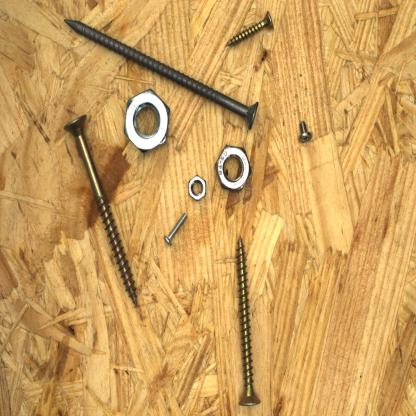screw: (62, 15, 261, 132), (61, 112, 139, 309), (233, 233, 264, 407), (224, 10, 275, 48), (162, 210, 189, 248), (295, 118, 315, 145)
